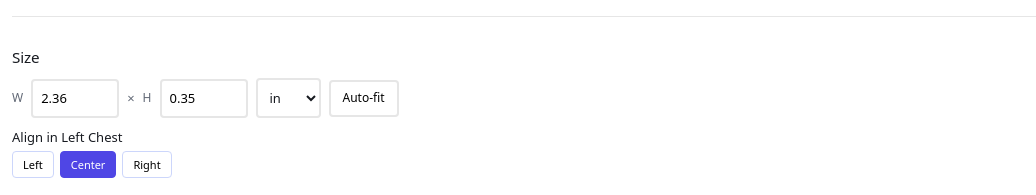
Test case: an under-minimum width is clamped and shown as clamped too
This screenshot has width=1036, height=195.
Select "mm" in the dropdown named "Size unit" at point(288, 98), box [256,78,320,118]
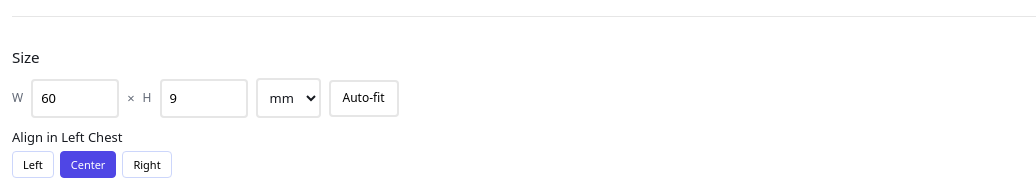
Replace the text in the number field named "Width" with "1" at point(75, 98), box [31,79,119,118]
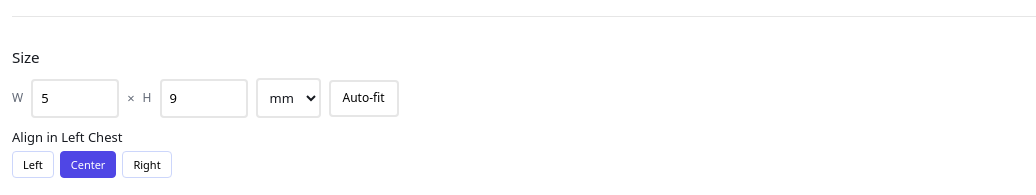
expect the number field named "Width" holds "5": met, box [31,79,119,118]
